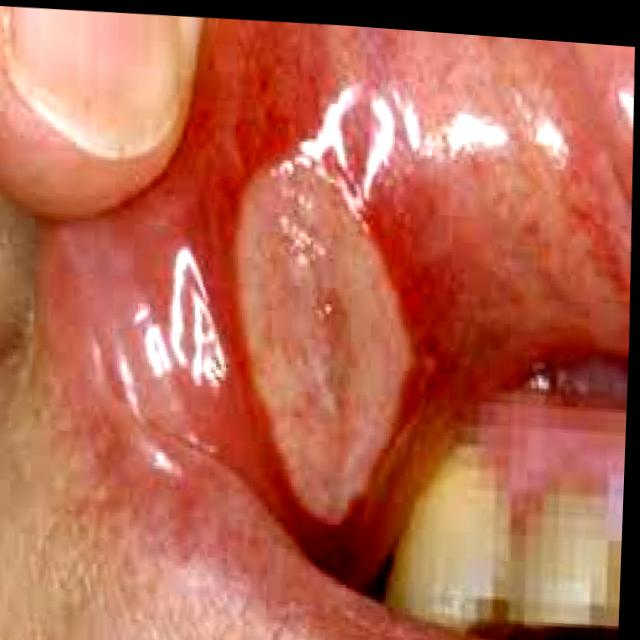ulcer: (238, 163, 410, 521)
